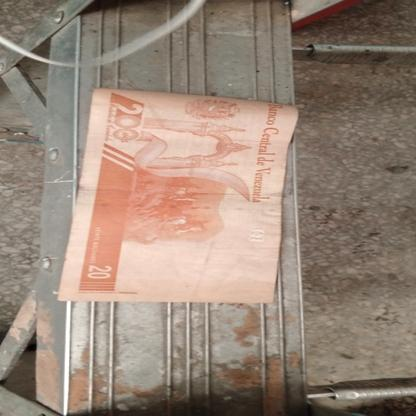twenty-back-vef: (57, 87, 299, 304)
